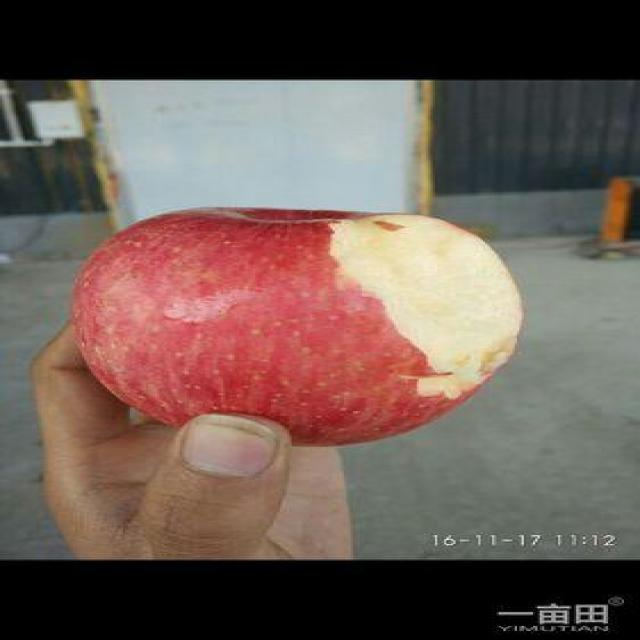Rotten: (75, 212, 537, 446)
